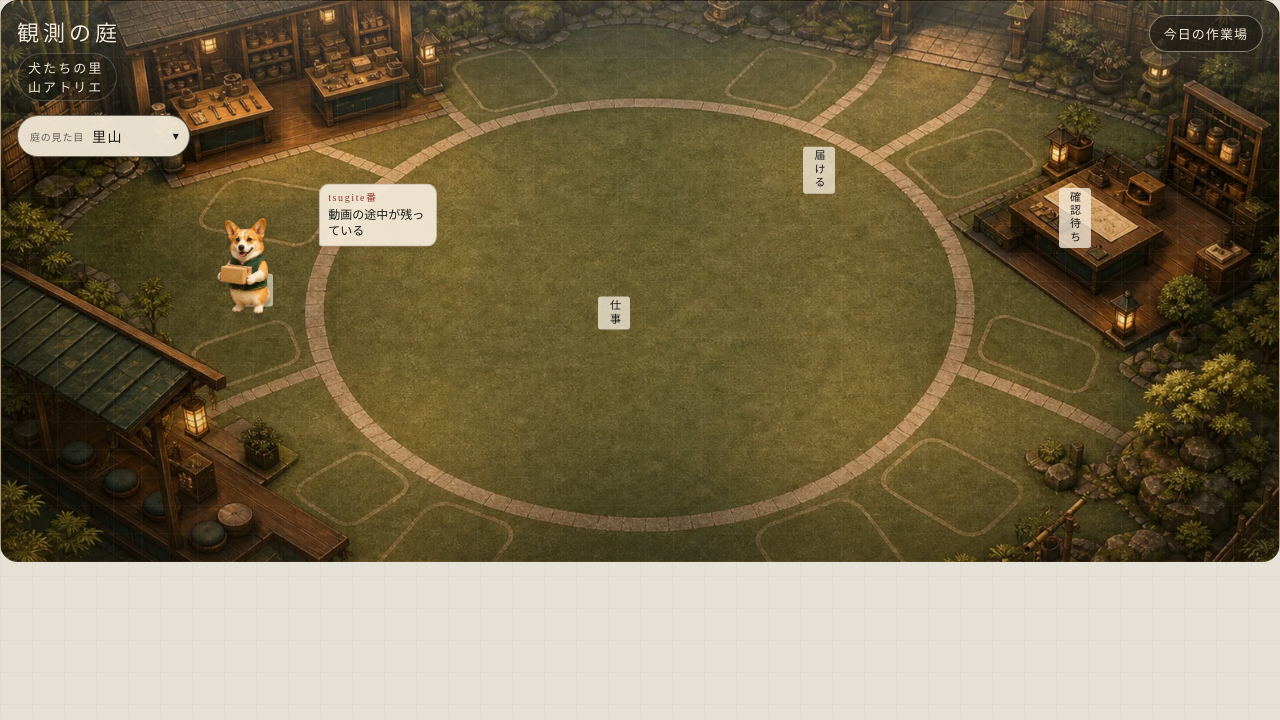
it: ObserverGarden › speaks tsugite leftover as video work when the place intro was read
Expected: the text "動画の途中が残っている" is shown, [328,206,428,239]
Click the 5th button: point(261, 265) [201,205,321,325]
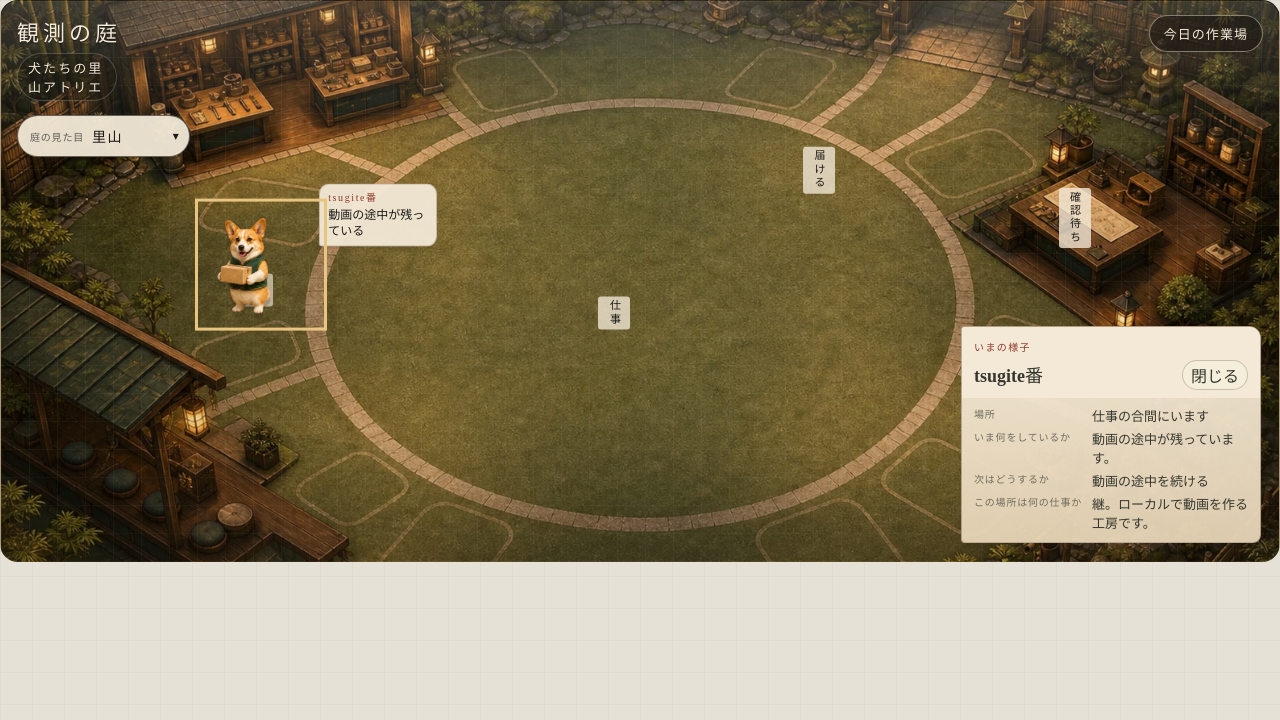
Expected: the element with test id "garden-inspect" shows "この場所は何の仕事か", [974,497,1082,508]
Expected: the element with test id "garden-inspect" shows "継。ローカルで動画を作る工房です。", [1092,497,1248,531]
Expected: the element with test id "garden-inspect" shows "動画の途中が残っています。", [1092,432,1234,466]
